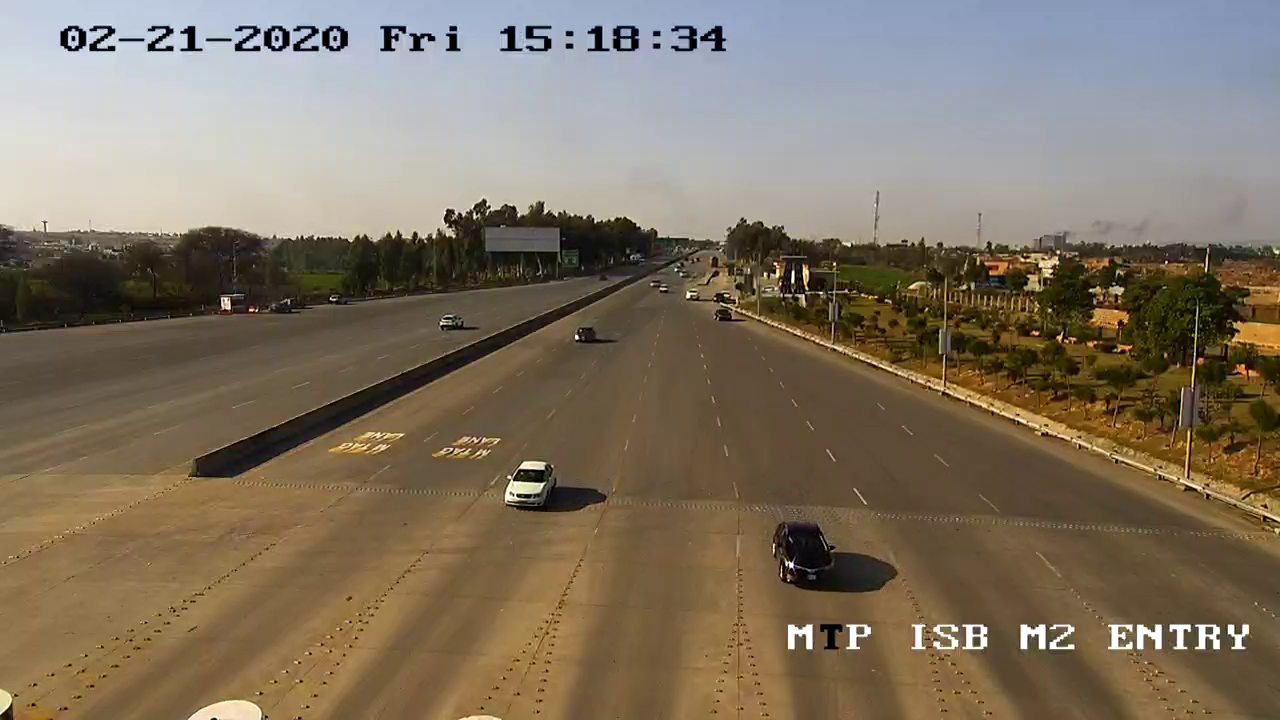f1: (766, 511, 844, 598), (496, 452, 562, 517)
